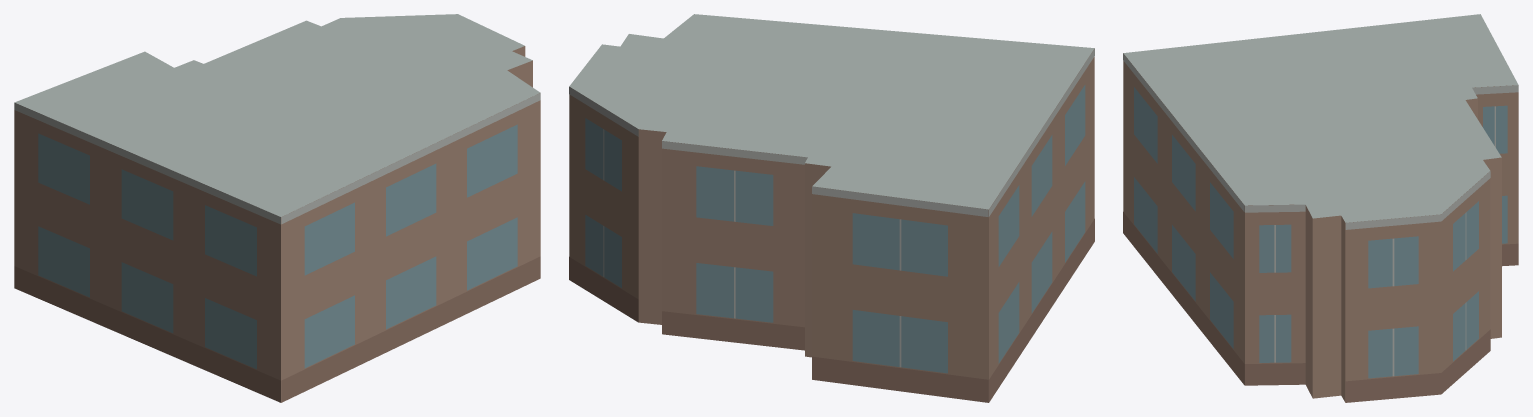
File: survey-upis-32917171.glb
3 views of the same model, side by side, from view 1: azimuth 30°, elevation 25°; view 2: azimuth 150°, elevation 25°; view 3: azimuth 270°, elevation 25° (orthographic). The views are drawn at different scales.
Visible parts, largest first — view 1: survey-upis-32917171.tmp; view 2: survey-upis-32917171.tmp; view 3: survey-upis-32917171.tmp.
Boxes of the visible parts, box(x1,y1,x2,y2) form: survey-upis-32917171.tmp: box(14, 14, 540, 402); survey-upis-32917171.tmp: box(569, 14, 1094, 402); survey-upis-32917171.tmp: box(1123, 14, 1518, 402).
Size of the model in its own units: 15.18 by 6.1 by 12.15.
